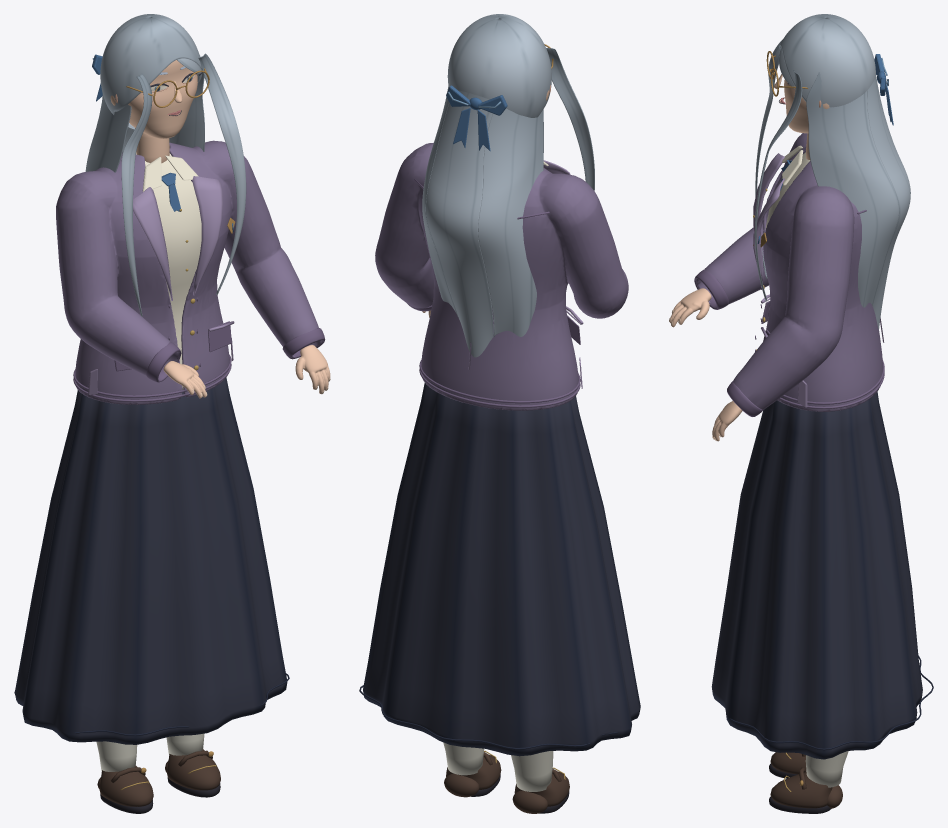
File: study-companion.glb
3 views of the same model, side by side, from view 1: azimuth 30°, elevation 25°; view 2: azimuth 150°, elevation 25°; view 3: azimuth 270°, elevation 25° (orthographic).
Visible parts, largest first — view 1: lowerStand__Long pleated charcoal skirt, upper_look__Continuous shoulder axilla cardigan, hair__Continuous silver scalp and swept fringe, upper_look__Ivory blouse under cardigan, headOpen__Sculpted facial planes, upper_look__Waist length face framing sheet 1, upper_look__Waist length face framing sheet -1, upper_look__Waist length back curtain 0, upper_look__Rolled tailored lapel.001, upper_look__Rolled tailored lapel, lowerStand__Mary Jane leather upper.001, lowerStand__Mary Jane leather upper (+8 smaller); view 2: lowerStand__Long pleated charcoal skirt, upper_look__Continuous shoulder axilla cardigan, upper_look__Waist length back curtain 0, upper_look__Waist length back curtain 1, hair__Continuous silver scalp and swept fringe, upper_look__Waist length face framing sheet -1, lowerStand__Cream stocking, upper_look__Waist length back curtain 2, lowerStand__Cream stocking.001, lowerStand__Mary Jane leather upper, lowerStand__Mary Jane leather upper.001, lowerStand__Shoe heel counter (+4 smaller); view 3: lowerStand__Long pleated charcoal skirt, upper_look__Continuous shoulder axilla cardigan, upper_look__Waist length back curtain 2, hair__Continuous silver scalp and swept fringe, upper_look__Waist length back curtain 1, lowerStand__Mary Jane leather upper.001, lowerStand__Cream stocking.001, upper_look__Waist length face framing sheet 1, hands_look__Continuous anatomical hand 0, upper_look__Waist length face framing sheet -1, headOpen__Sculpted facial planes, upper_look__Open tailored cuff 0 (+6 smaller).
Boxes of the visible parts, box(x1,y1,x2,y2) form: lowerStand__Long pleated charcoal skirt: box(14, 377, 287, 744); upper_look__Continuous shoulder axilla cardigan: box(56, 140, 323, 404); hair__Continuous silver scalp and swept fringe: box(100, 14, 202, 130); upper_look__Ivory blouse under cardigan: box(136, 152, 201, 389); headOpen__Sculpted facial planes: box(128, 60, 197, 138); upper_look__Waist length face framing sheet 1: box(198, 53, 246, 294); upper_look__Waist length face framing sheet -1: box(121, 74, 152, 316); upper_look__Waist length back curtain 0: box(85, 94, 131, 172); upper_look__Rolled tailored lapel.001: box(192, 176, 222, 295); upper_look__Rolled tailored lapel: box(133, 187, 172, 300); lowerStand__Mary Jane leather upper.001: box(167, 749, 220, 790); lowerStand__Mary Jane leather upper: box(99, 765, 153, 806); lowerStand__Long pleated charcoal skirt: box(363, 382, 640, 756); upper_look__Continuous shoulder axilla cardigan: box(375, 142, 628, 410); upper_look__Waist length back curtain 0: box(478, 108, 543, 336); upper_look__Waist length back curtain 1: box(425, 90, 493, 357); hair__Continuous silver scalp and swept fringe: box(447, 14, 551, 117); upper_look__Waist length face framing sheet -1: box(546, 48, 594, 284); lowerStand__Cream stocking: box(511, 751, 553, 791); upper_look__Waist length back curtain 2: box(422, 86, 458, 317); lowerStand__Cream stocking.001: box(443, 742, 484, 775); lowerStand__Mary Jane leather upper: box(514, 771, 569, 806); lowerStand__Mary Jane leather upper.001: box(446, 754, 501, 789); lowerStand__Shoe heel counter: box(512, 790, 547, 813); lowerStand__Long pleated charcoal skirt: box(711, 391, 922, 759); upper_look__Continuous shoulder axilla cardigan: box(695, 133, 883, 411); upper_look__Waist length back curtain 2: box(806, 72, 899, 307); hair__Continuous silver scalp and swept fringe: box(779, 14, 875, 107); upper_look__Waist length back curtain 1: box(867, 75, 910, 329); lowerStand__Mary Jane leather upper.001: box(770, 772, 832, 808); lowerStand__Cream stocking.001: box(805, 751, 848, 787); upper_look__Waist length face framing sheet 1: box(754, 70, 802, 301); hands_look__Continuous anatomical hand 0: box(670, 288, 711, 327); upper_look__Waist length face framing sheet -1: box(755, 39, 782, 278); headOpen__Sculpted facial planes: box(784, 79, 808, 133); upper_look__Open tailored cuff 0: box(694, 269, 728, 309).
Size of the model in its own units: 0.6188 by 1.75 by 0.5432.
